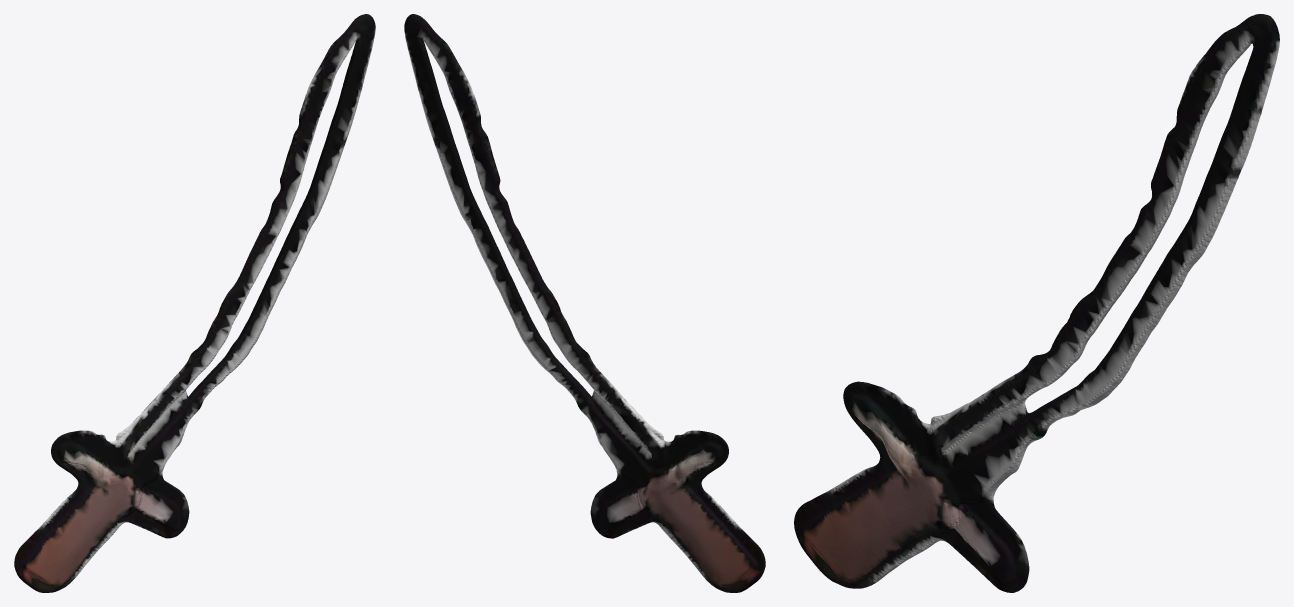
Rendered from katana_1.glb.
The picture shows the model from 3 angles, left to right: view 1: azimuth 30°, elevation 25°; view 2: azimuth 150°, elevation 25°; view 3: azimuth 330°, elevation 25°; orthographic projection. The views are drawn at different scales.
Visible parts, largest first — view 1: geometry_0; view 2: geometry_0; view 3: geometry_0.
Part boxes in pixels (x1,y1,x2,y2): geometry_0: (14, 14, 375, 592); geometry_0: (404, 14, 765, 592); geometry_0: (794, 14, 1279, 592).
Size of the model in its own units: 0.5938 by 0.7886 by 0.0303.
